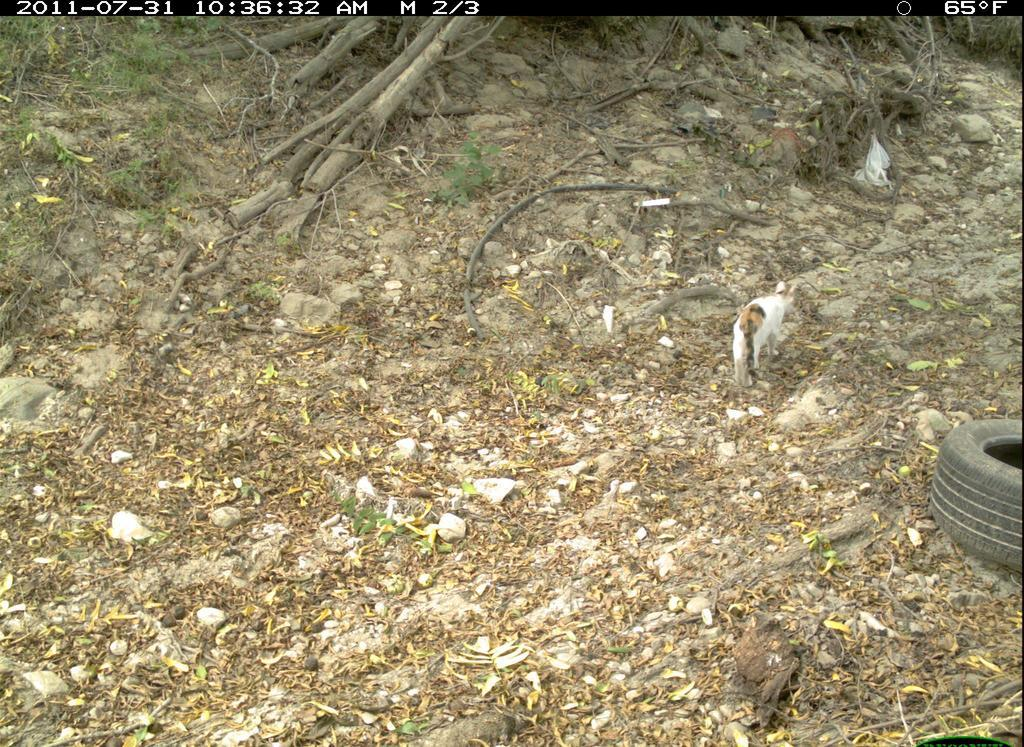cat: (726, 277, 804, 395)
